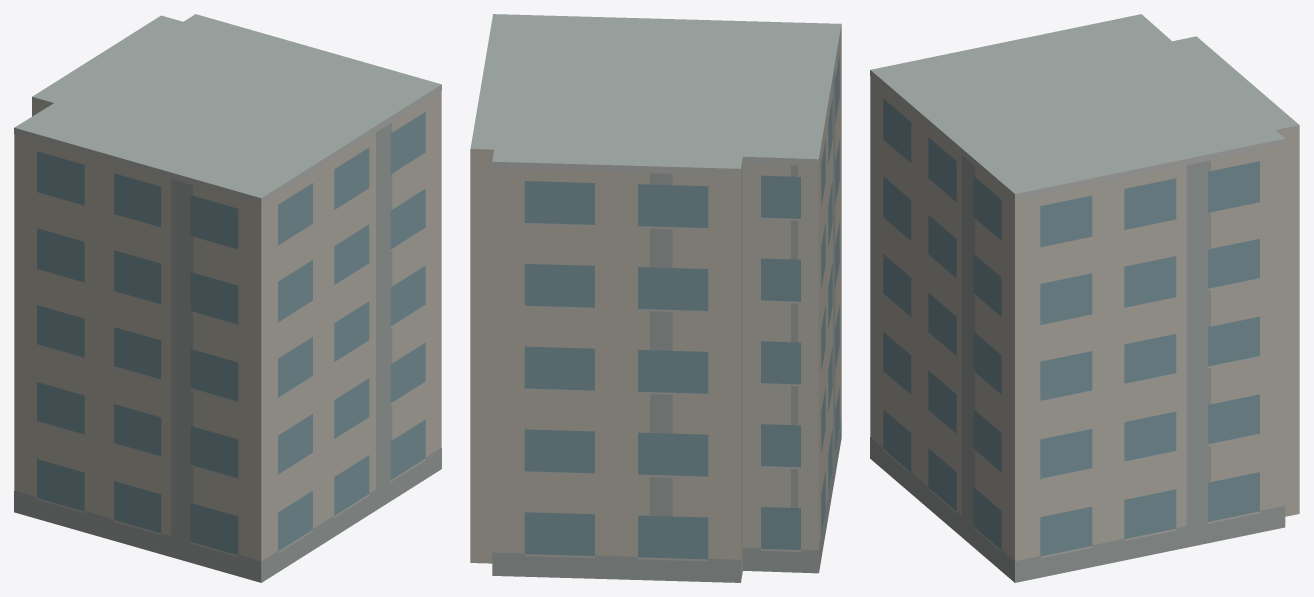
File: survey-upis-32832896.glb
3 views of the same model, side by side, from view 1: azimuth 30°, elevation 25°; view 2: azimuth 150°, elevation 25°; view 3: azimuth 270°, elevation 25° (orthographic). The views are drawn at different scales.
Parts seen in each view (by area): view 1: survey-upis-32832896.tmp; view 2: survey-upis-32832896.tmp; view 3: survey-upis-32832896.tmp.
Part boxes in pixels (x1,y1,x2,y2): survey-upis-32832896.tmp: [14, 14, 441, 582]; survey-upis-32832896.tmp: [470, 14, 841, 582]; survey-upis-32832896.tmp: [870, 14, 1299, 582].
Size of the model in its own units: 14.35 by 14.44 by 14.46.
